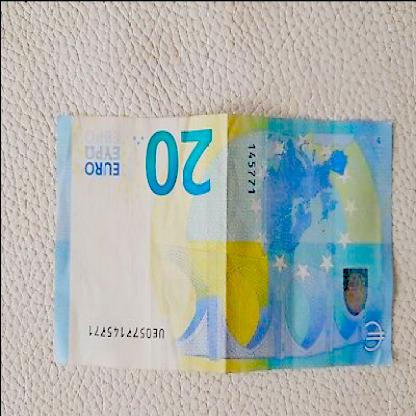euro_banknote: (54, 113, 395, 375)
